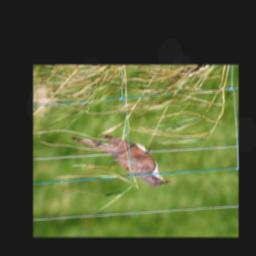Cuckoo: (69, 129, 171, 189)
